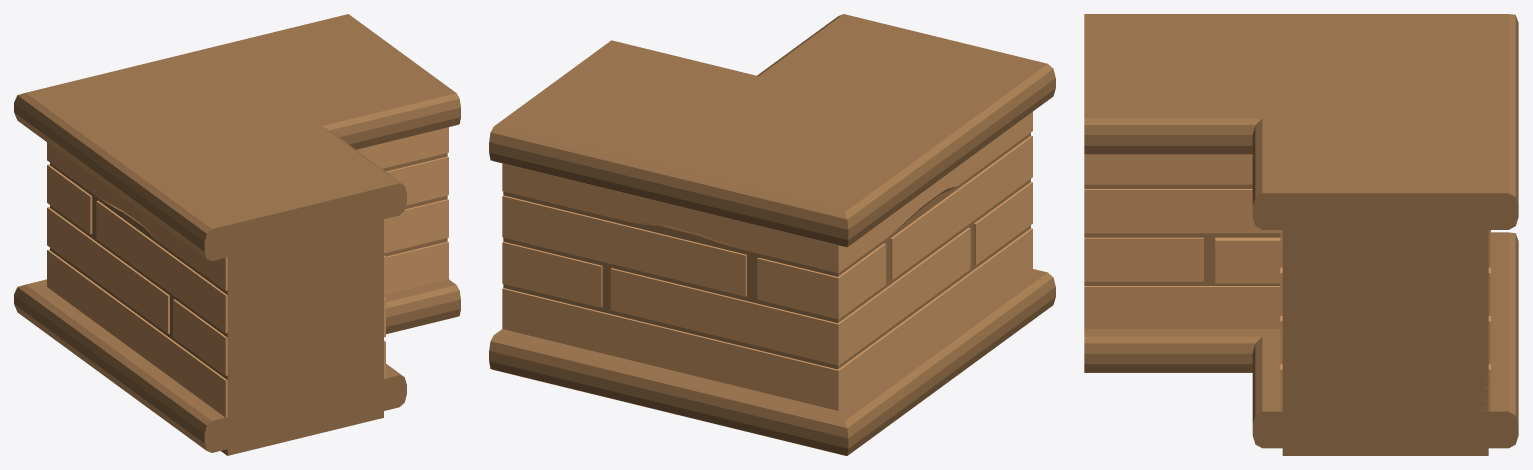
File: Counter_Corner.fbx
3 renders of one model, left to right at view 1: azimuth 30°, elevation 25°; view 2: azimuth 150°, elevation 25°; view 3: azimuth 270°, elevation 25°, orthographic. The views are drawn at different scales.
Parts seen in each view (by area): view 1: Environment_Counter_Corner; view 2: Environment_Counter_Corner; view 3: Environment_Counter_Corner.
Boxes of the visible parts, x1,y1,x2,y2 form: Environment_Counter_Corner: [14, 14, 460, 455]; Environment_Counter_Corner: [489, 14, 1055, 455]; Environment_Counter_Corner: [1084, 14, 1518, 455].
Size of the model in its own units: 288 by 192 by 288.
